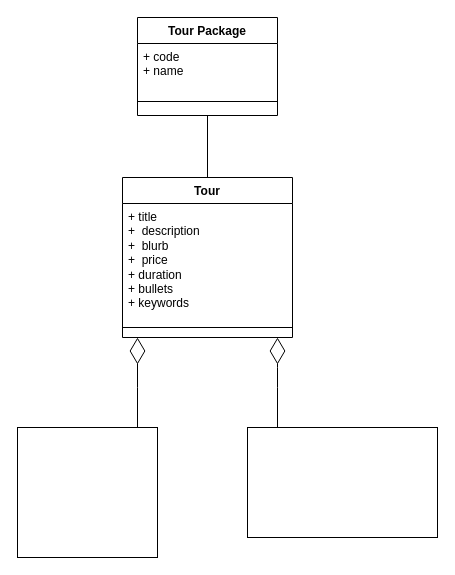
Image size: 455x575. Some labels were removed from this diagram. Each missing label, with the centre of its shape:
<<enumeration>> Difficulty + Easy + Medium + Difficult + Varies: pixel 342 482
<<enumeration>> Region + North + Central + South + Varies: pixel 87 492
